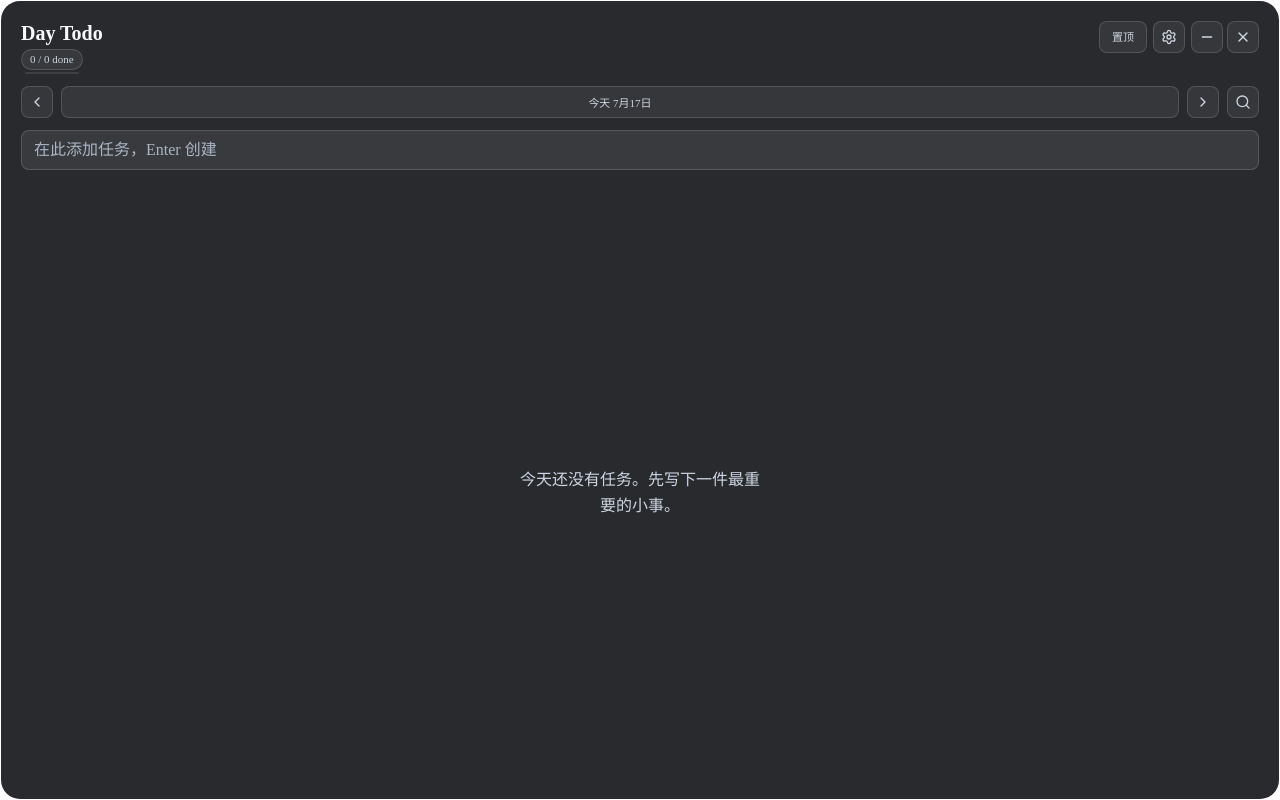
Test case: App date views › keeps a past date read-only
Expected: the field labelled "添加任务" is shown, [21,130,1259,170]
Click the button named "前一天": click(37, 102) [21,86,53,118]
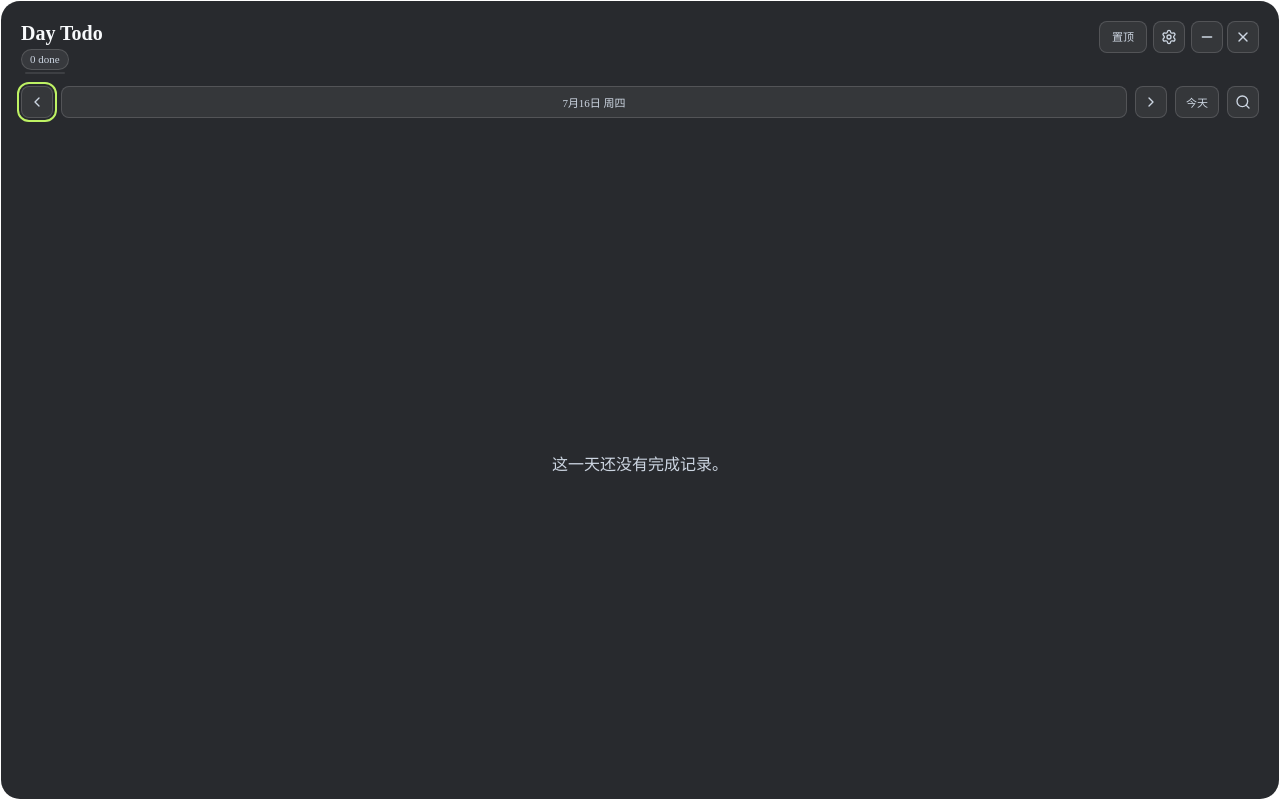
Expected: the field labelled "添加任务" is gone
Expected: the text "这一天还没有完成记录。" is shown, [552,452,728,477]
